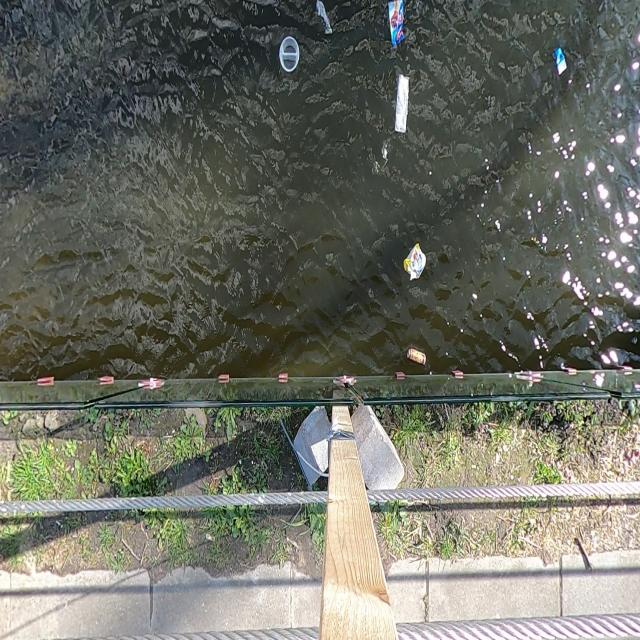Autre plastique: (276, 34, 305, 79), (386, 0, 409, 53)
Non plastique: (404, 345, 434, 371)
Sac plastique: (310, 0, 337, 39)
